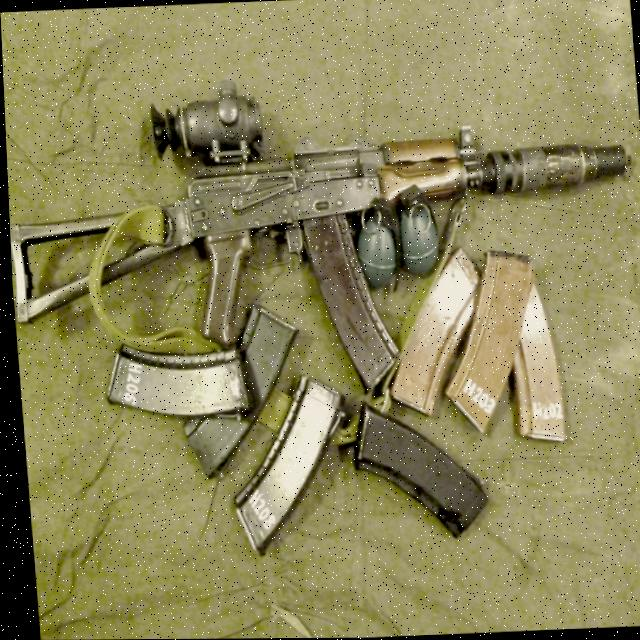firearm: (2, 60, 640, 412)
grenade: (351, 193, 402, 295), (394, 181, 438, 274)
